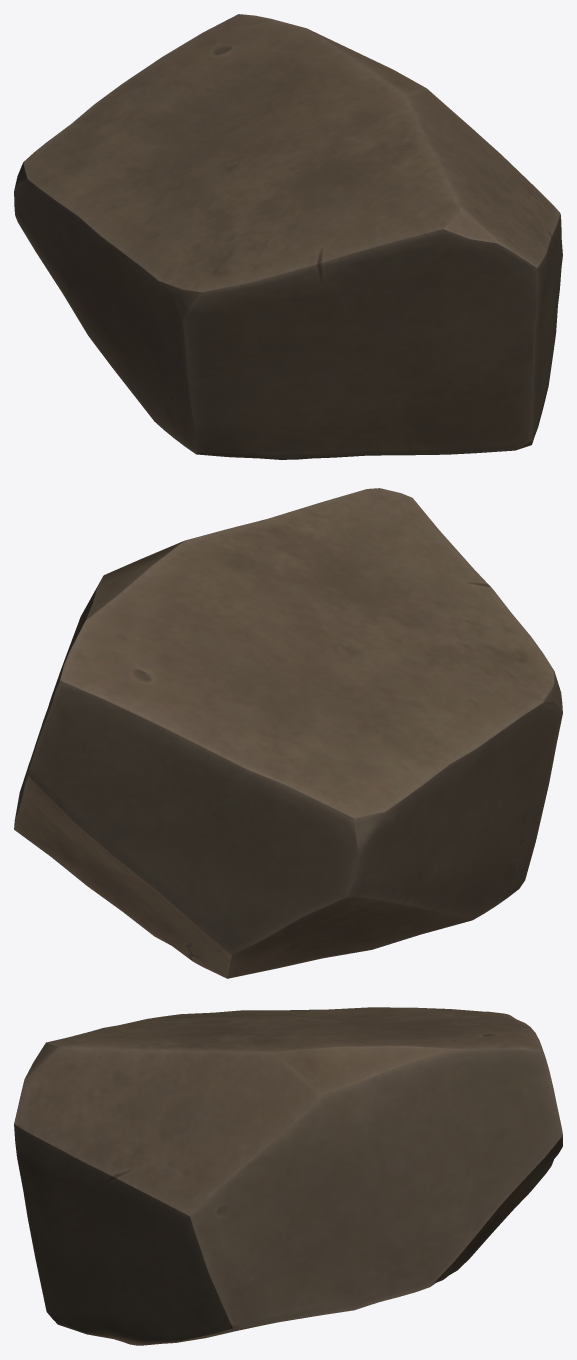
File: stone3.obj
3 views of the same model, one above another, from view 1: azimuth 30°, elevation 25°; view 2: azimuth 150°, elevation 25°; view 3: azimuth 270°, elevation 25° (orthographic). The views are drawn at different scales.
Visible parts, largest first — view 1: ST_Stone1; view 2: ST_Stone1; view 3: ST_Stone1.
Boxes of the visible parts, box(x1,y1,x2,y2) form: ST_Stone1: box(14, 14, 562, 459); ST_Stone1: box(14, 488, 562, 978); ST_Stone1: box(14, 1007, 562, 1345).
Bounding box in the file's own units: 2.48 × 1.66 × 2.97.
1 material, 1 textured.
